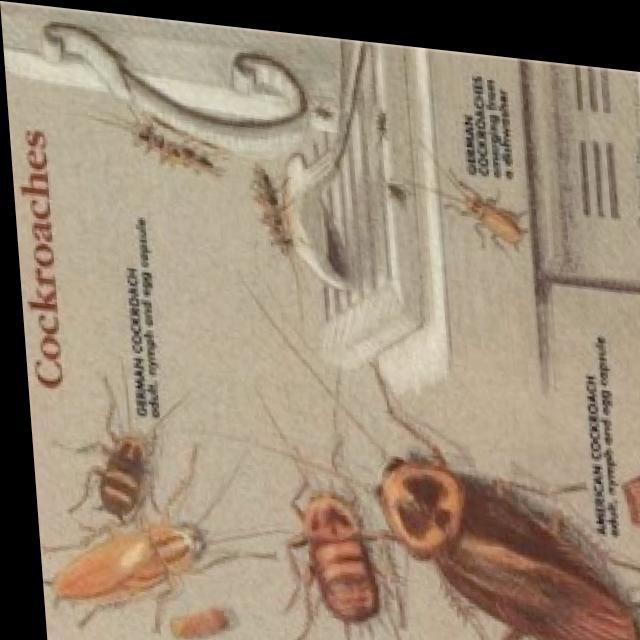cockroach: (355, 435, 640, 640), (52, 478, 248, 634), (290, 460, 407, 639), (81, 403, 187, 535), (106, 86, 226, 184), (237, 160, 319, 268), (457, 173, 538, 265), (168, 596, 249, 640)
